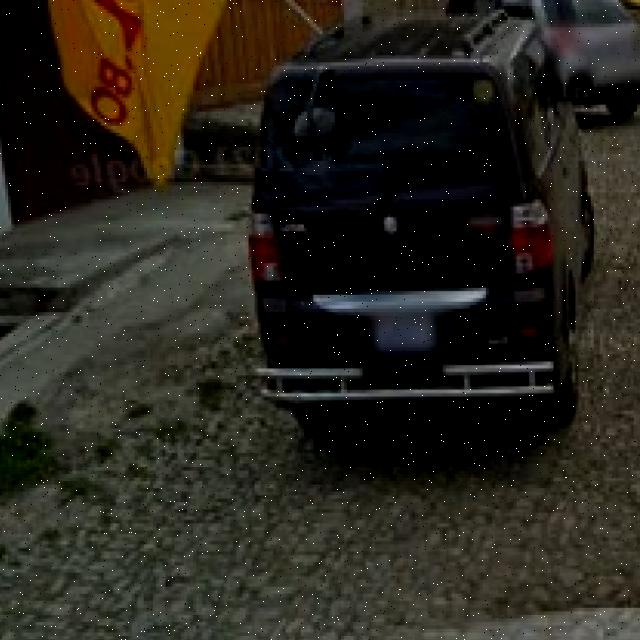car: (254, 8, 594, 438)
